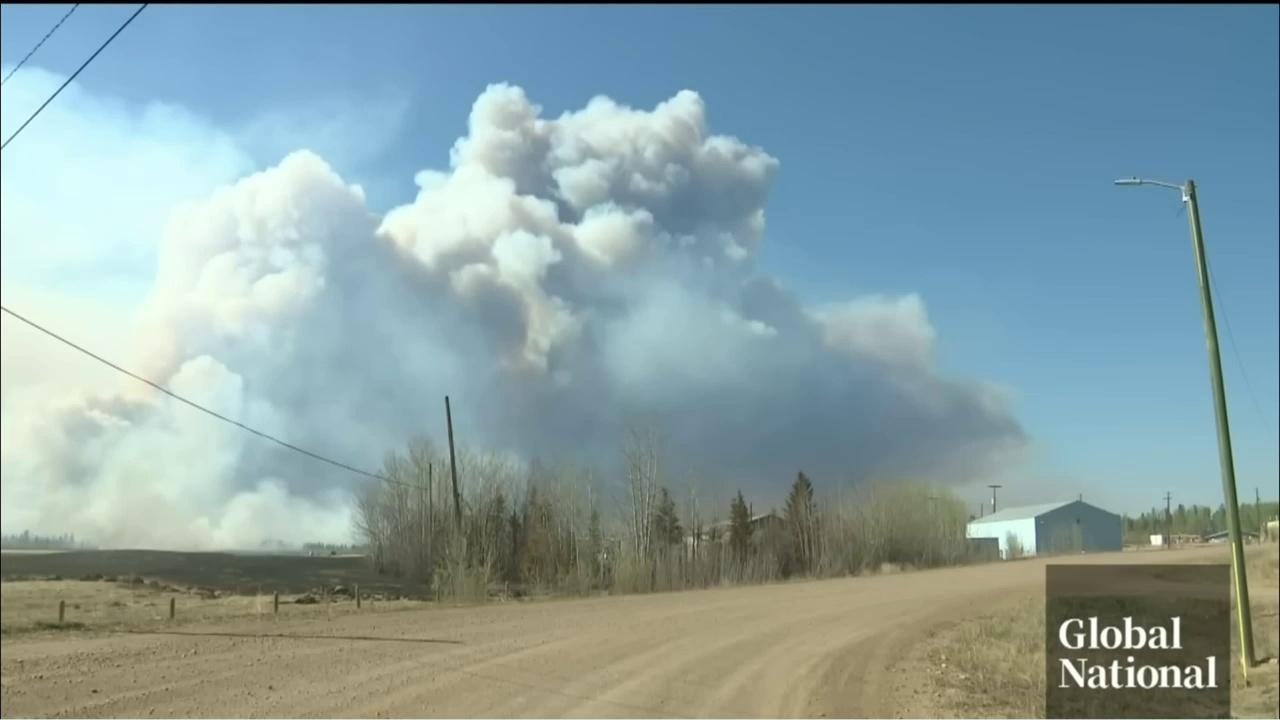smoke: (0, 62, 1040, 552)
